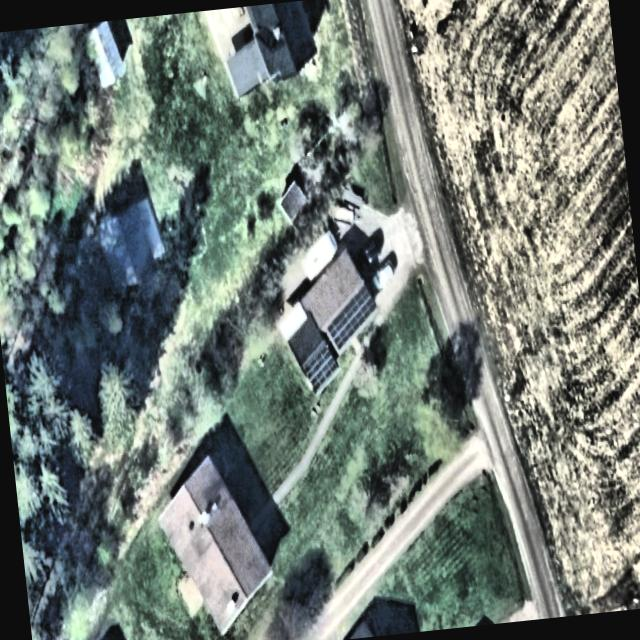roof_pv: (324, 282, 383, 348), (301, 338, 344, 394)
